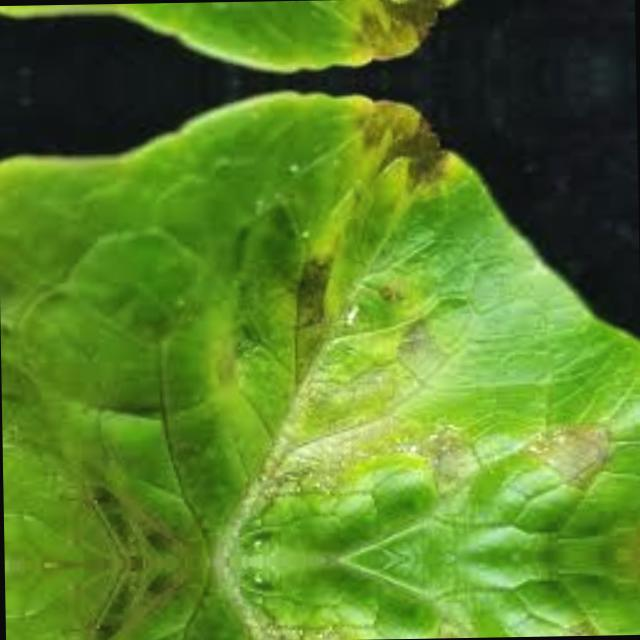Lettuce - Anthracnose: (107, 155, 570, 546), (114, 572, 571, 640)
